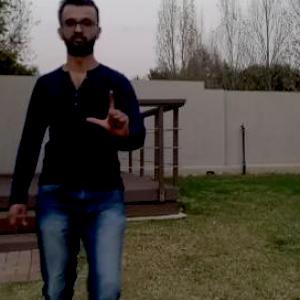land_hand: (82, 85, 136, 147)
